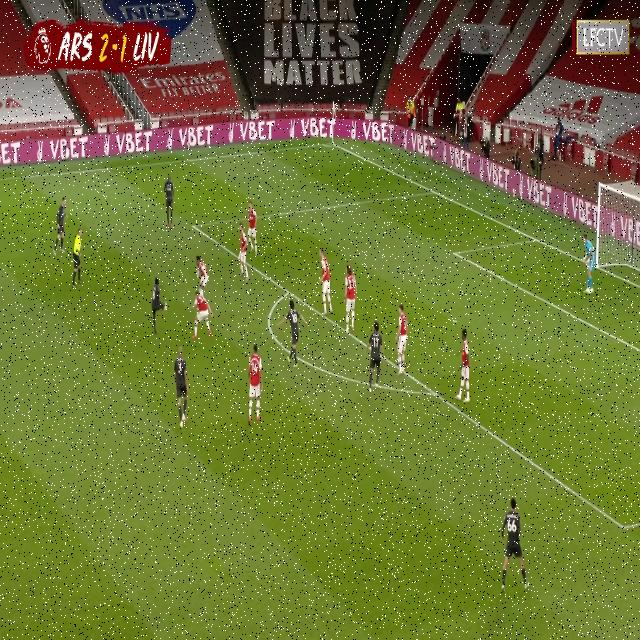GoalKeeper: (581, 233, 597, 294)
TEAM 1: (248, 348, 265, 428), (191, 291, 214, 339), (394, 304, 408, 379), (458, 329, 472, 404), (318, 249, 332, 318), (344, 266, 358, 335), (195, 245, 207, 298), (246, 204, 258, 256), (238, 222, 248, 282)
TEAM 2: (498, 499, 530, 594), (174, 351, 191, 430), (368, 320, 384, 392), (287, 302, 304, 367), (153, 279, 169, 340), (54, 200, 68, 256), (162, 175, 175, 229)
